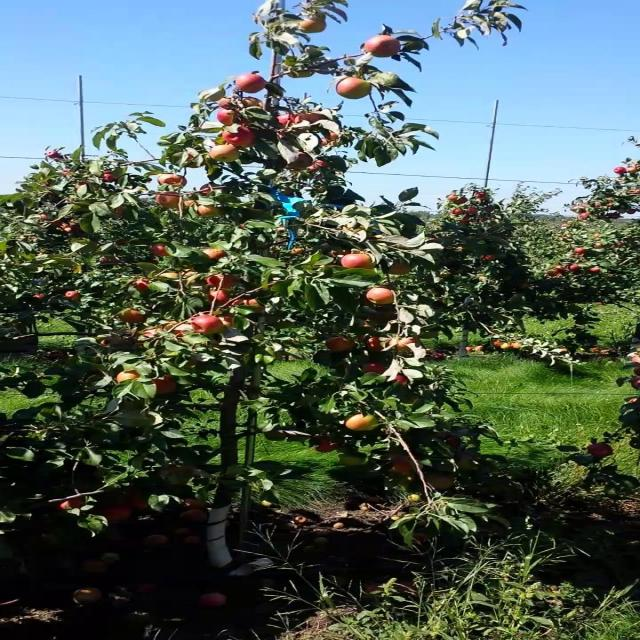apple: (369, 36, 405, 59), (340, 80, 372, 100), (212, 144, 242, 164), (191, 316, 224, 334), (227, 128, 256, 148), (234, 76, 268, 93), (99, 504, 135, 520), (284, 152, 313, 171), (340, 256, 377, 270), (326, 336, 356, 352), (348, 416, 377, 432), (369, 288, 398, 304), (56, 496, 85, 512), (156, 192, 183, 208), (156, 376, 178, 395), (298, 20, 327, 34), (426, 476, 455, 490), (205, 276, 238, 288), (170, 324, 199, 337), (234, 300, 265, 312), (589, 444, 613, 459), (390, 460, 414, 475), (369, 336, 391, 352), (319, 132, 341, 148), (120, 312, 149, 324), (298, 112, 327, 124), (156, 176, 187, 187), (198, 204, 226, 216), (220, 112, 242, 127), (362, 364, 389, 376), (99, 336, 126, 348), (212, 288, 231, 305), (340, 456, 368, 467), (198, 184, 222, 196), (205, 248, 228, 260), (397, 340, 420, 352), (141, 328, 164, 340), (319, 440, 341, 452), (390, 264, 412, 276), (227, 116, 251, 127), (150, 244, 171, 256), (440, 436, 462, 447), (241, 100, 267, 109), (276, 116, 299, 125), (220, 100, 240, 110), (134, 496, 149, 509), (134, 280, 149, 292), (220, 316, 235, 328), (312, 160, 327, 172), (120, 372, 142, 380), (241, 100, 263, 108), (291, 72, 313, 80), (276, 128, 290, 140), (106, 172, 121, 183), (63, 292, 82, 300), (113, 208, 128, 217), (184, 200, 199, 208), (163, 272, 180, 279), (397, 376, 411, 384), (632, 380, 639, 389), (632, 396, 639, 404)
